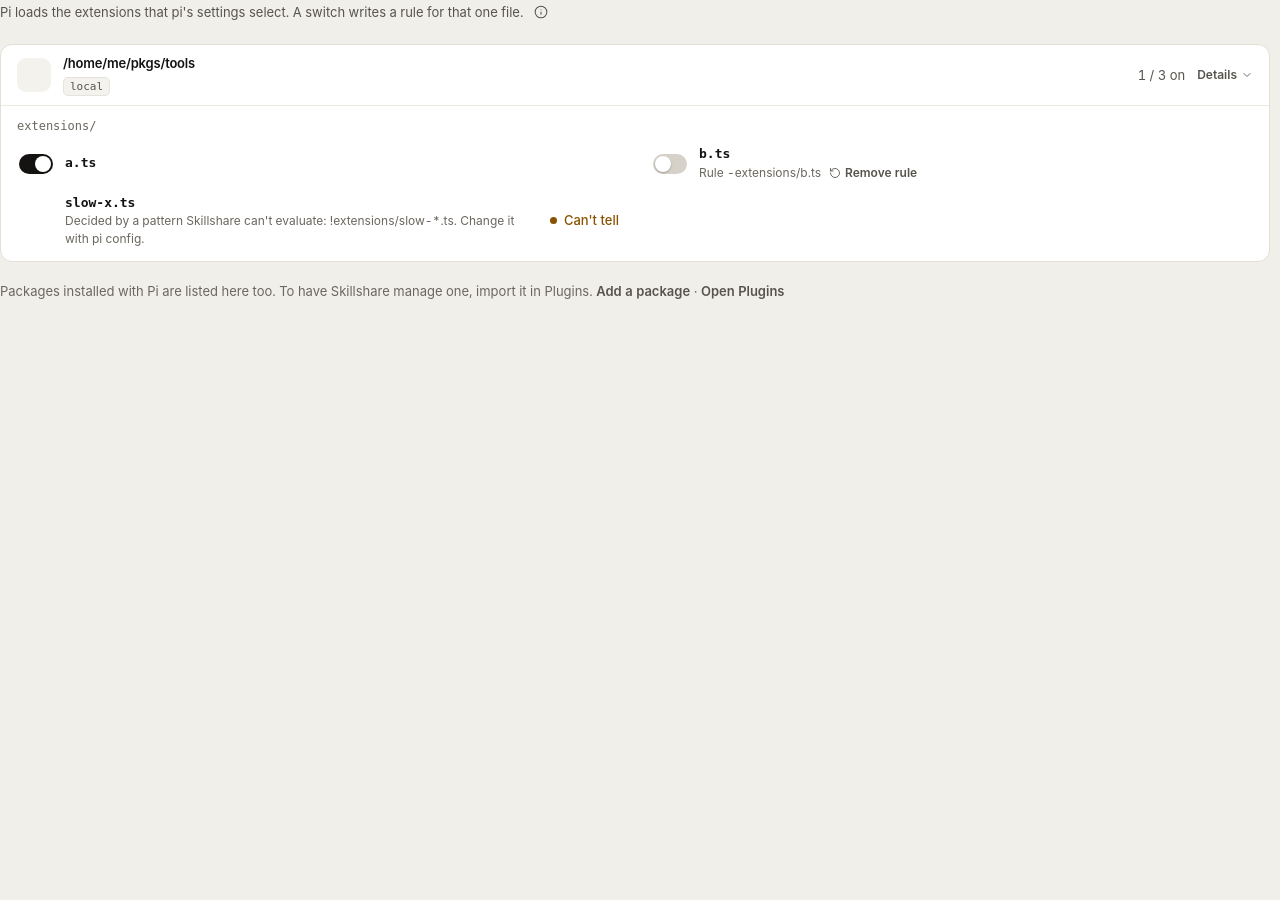
Pi target Extensions tab › previews the switched extension, applies that revision and refreshes the tab and Plugins
Click the switch named "Load extensions/a.ts from /home/me/pkgs/tools in pi": (36, 164) [17,148,55,180]
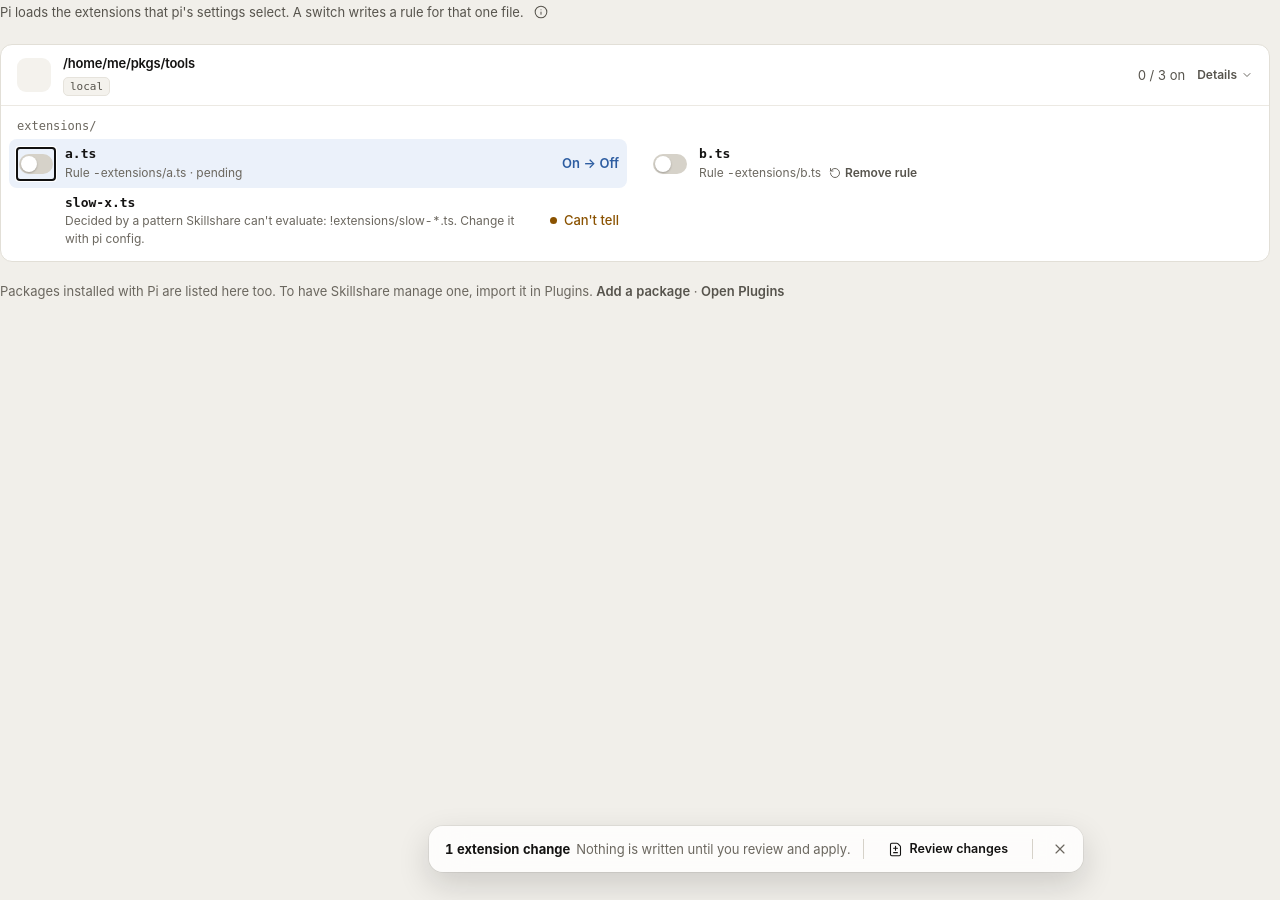
Expected: the text "1 extension change" is shown, [445,840,570,858]
Expected: the text "On → Off" is shown, [562,154,619,173]
Click the button "Review changes": (948, 849) [876,835,1020,863]
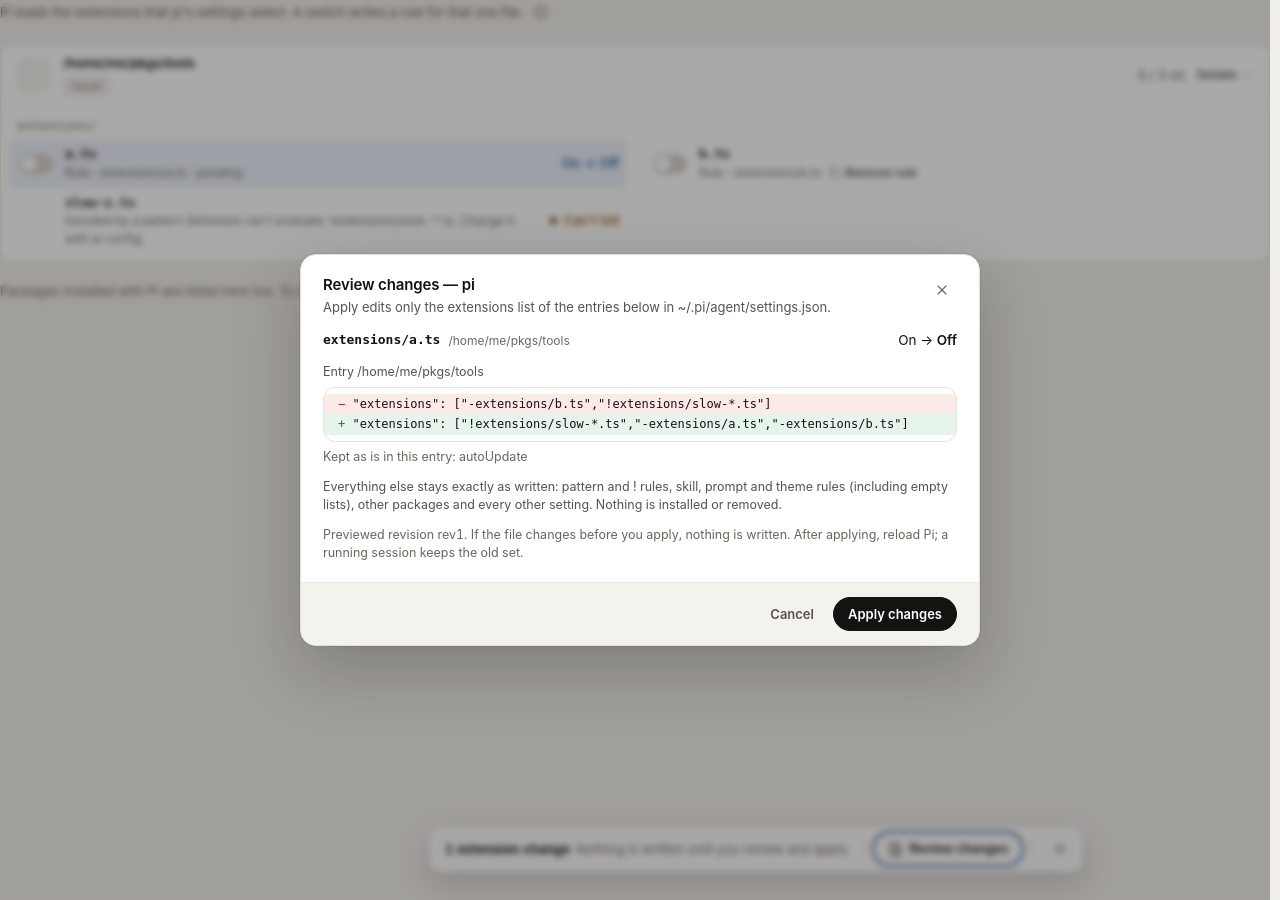
Expected: the text "\"!extensions/slow-*.ts\",\"-extensions/a.ts\"" is shown, [454,417,909,431]
Expected: the text "Kept as is in this entry: autoUpdate" is shown, [323,449,528,464]
Click the button "Apply changes": (895, 614) [833,597,957,631]
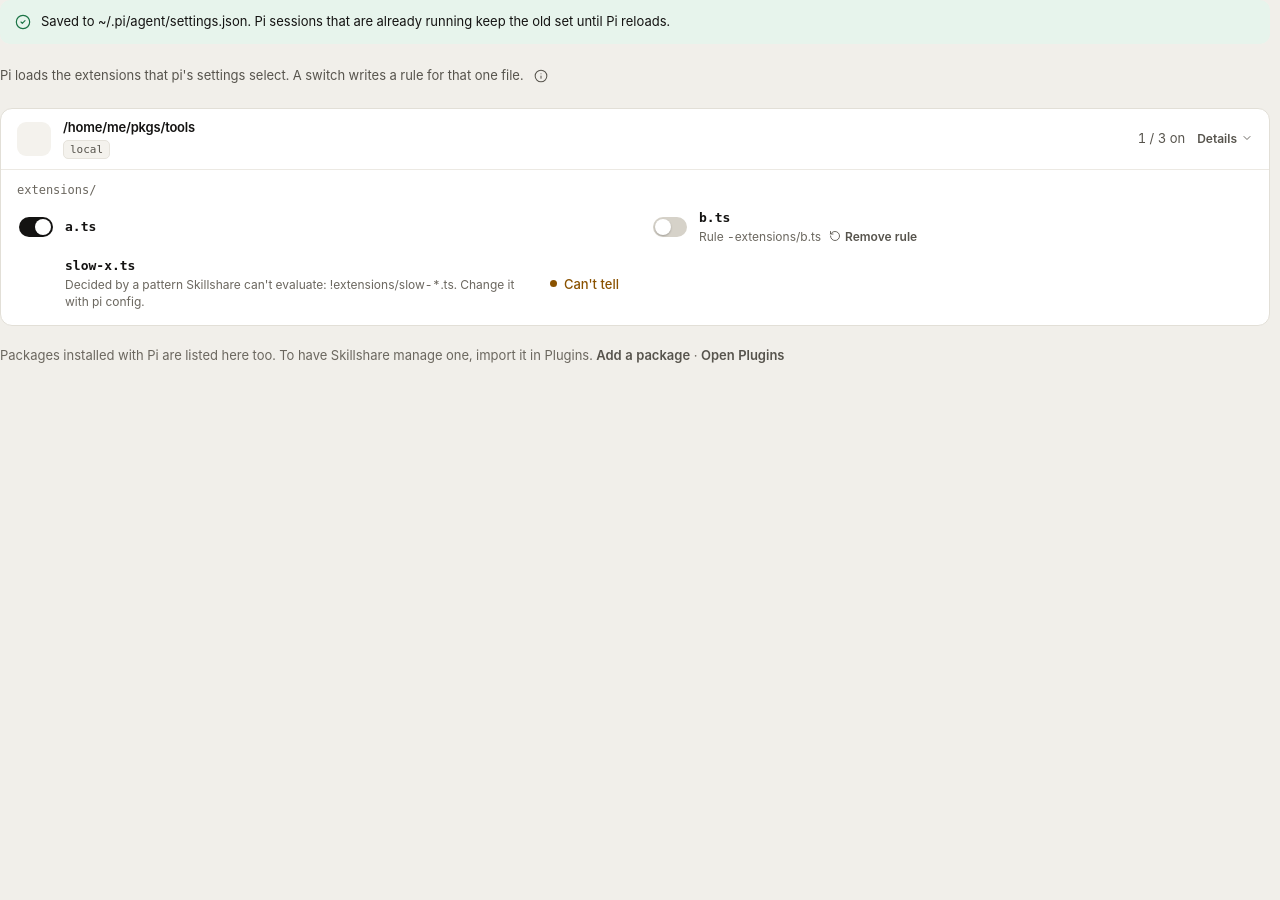
Expected: the message shows "keep the old set until Pi reloads", [41,13,670,29]
